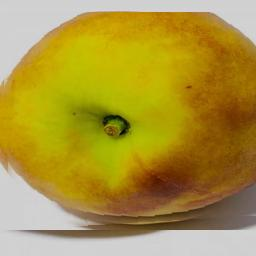Peach Semifresh: (0, 12, 256, 230)
